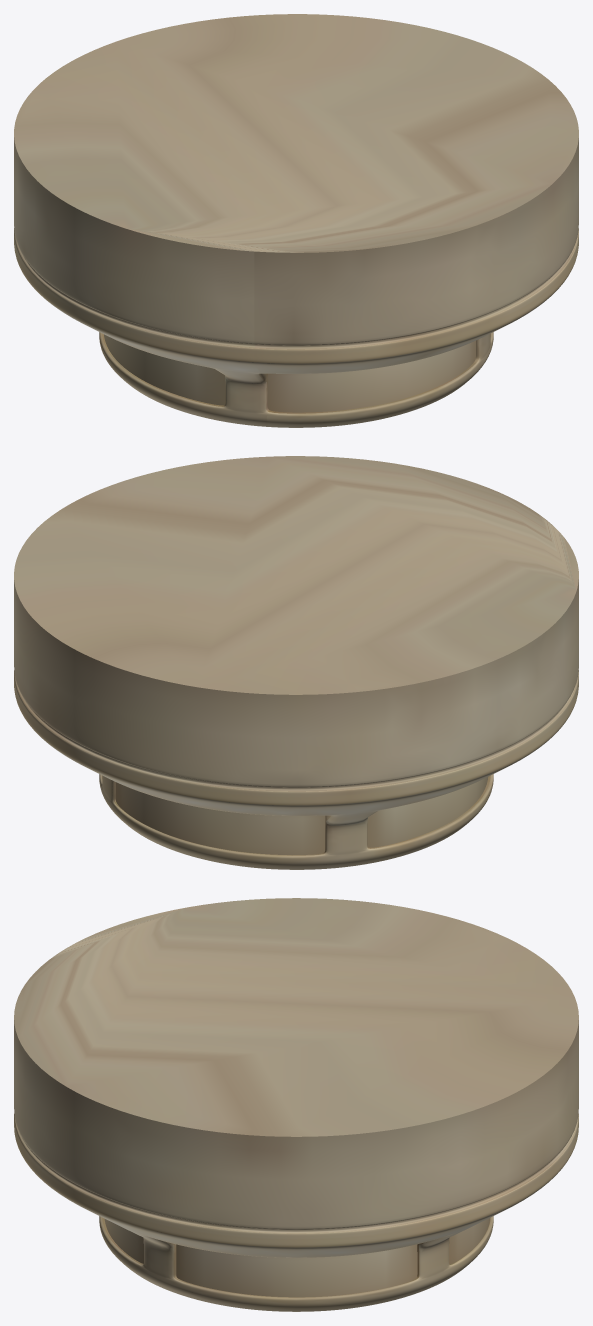
Rendered from SM_Ceiling_Grid07.fbx.
The picture shows the model from 3 angles, top to bottom: view 1: azimuth 30°, elevation 25°; view 2: azimuth 150°, elevation 25°; view 3: azimuth 270°, elevation 25°; orthographic projection.
Parts seen in each view (by area): view 1: SM_Ceiling_Grid07_LOD0; view 2: SM_Ceiling_Grid07_LOD0; view 3: SM_Ceiling_Grid07_LOD0.
Boxes of the visible parts, bbox=[...] form: SM_Ceiling_Grid07_LOD0: bbox=[14, 14, 578, 427]; SM_Ceiling_Grid07_LOD0: bbox=[14, 456, 578, 869]; SM_Ceiling_Grid07_LOD0: bbox=[14, 898, 578, 1311].
Size of the model in its own units: 13.39 by 13.39 by 5.64.
